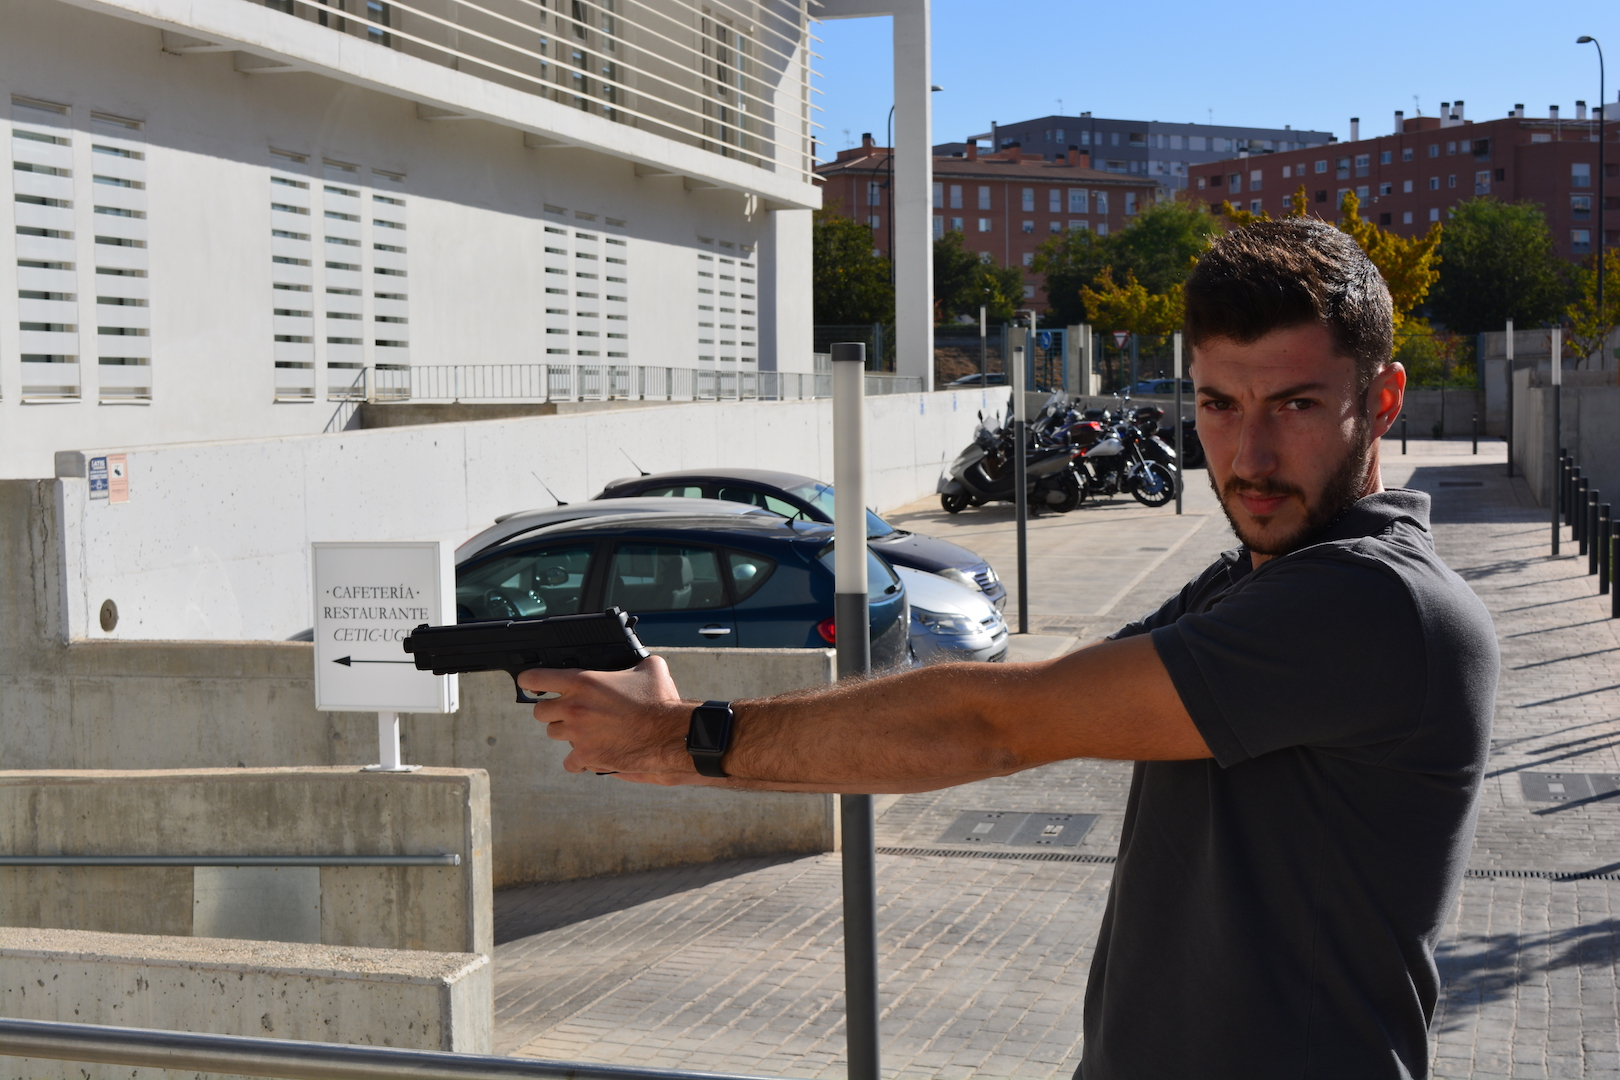pistol: (403, 605, 652, 776)
